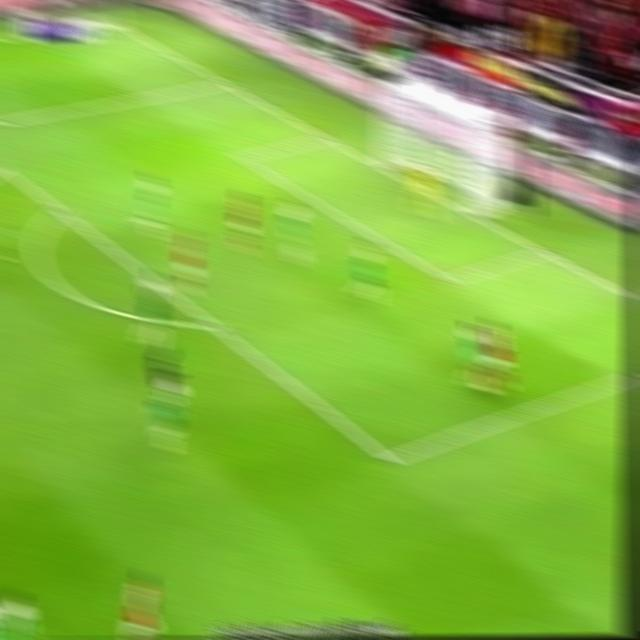bigarea_bottom_inner: (376, 444, 404, 474)
bigarea_top_outter: (214, 73, 236, 91)
bottom_arc_area_intersection: (202, 314, 223, 334)
corner: (101, 14, 129, 29)
smallarea_bottom_inner: (437, 264, 463, 294)
smallarea_bottom_outter: (531, 241, 555, 262)
smallarea_top_inner: (233, 149, 253, 165)
smallarea_top_outter: (314, 128, 336, 146)
top_arc_area_intersection: (51, 200, 71, 219)
